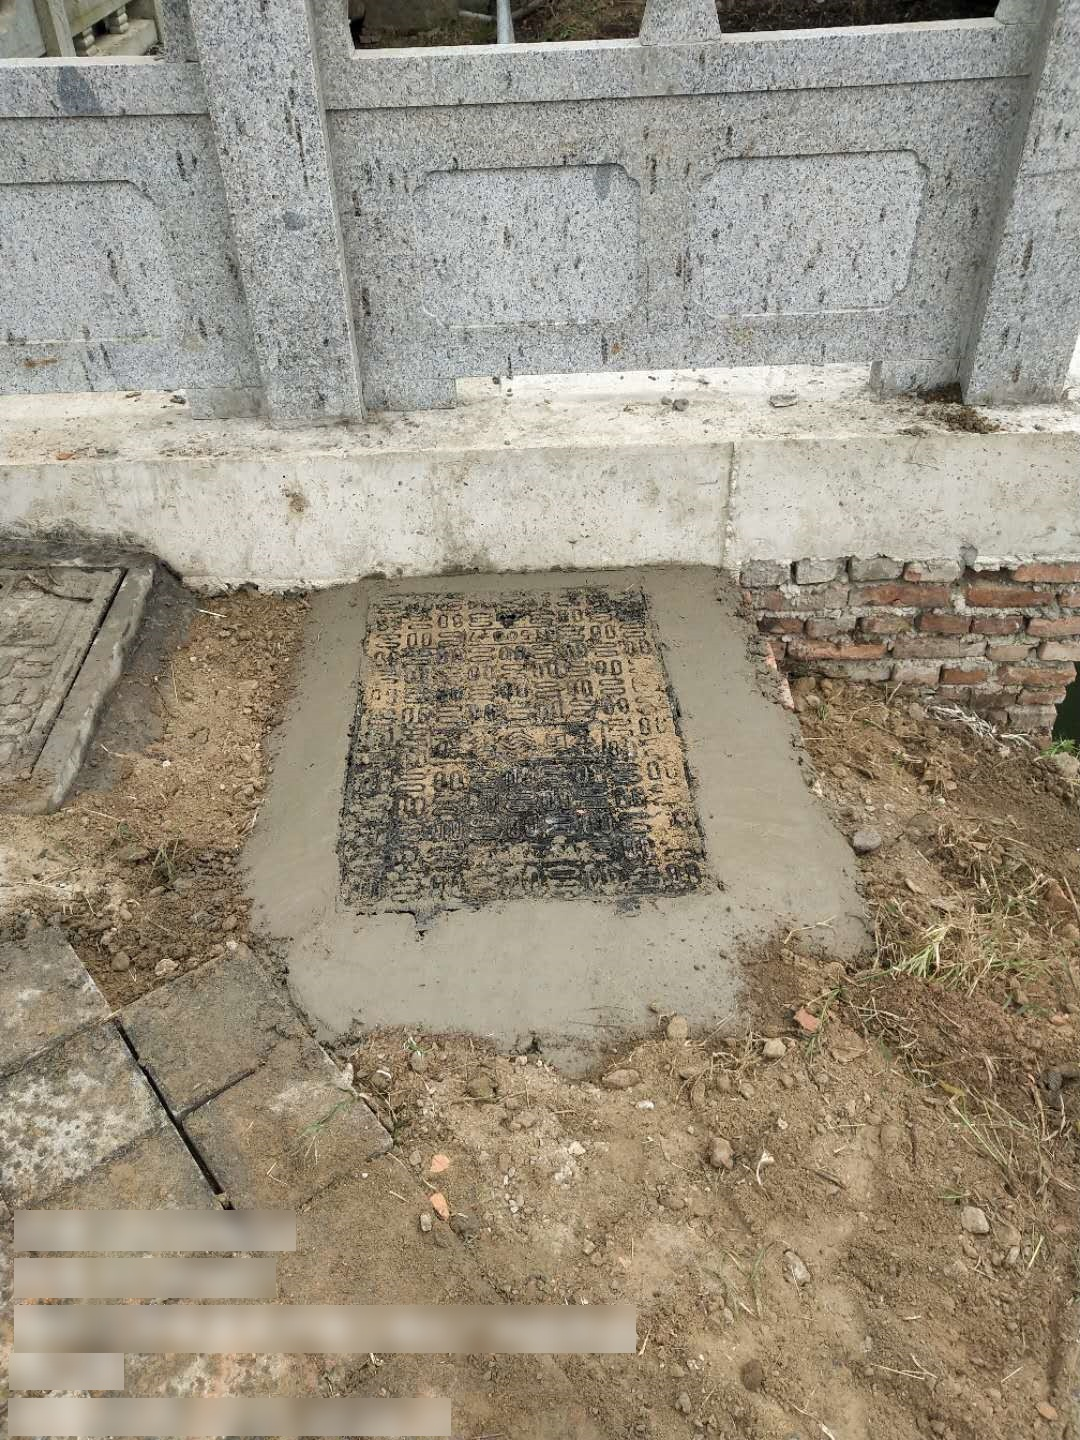good: (324, 577, 729, 909)
